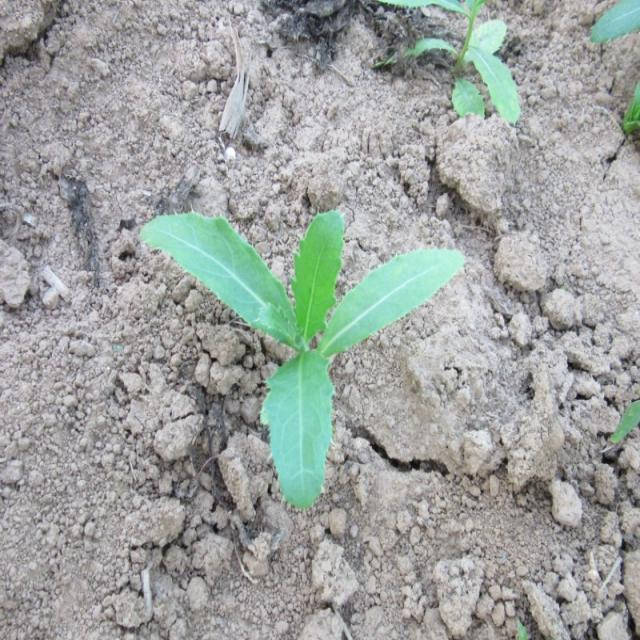cs: (138, 207, 468, 506)
